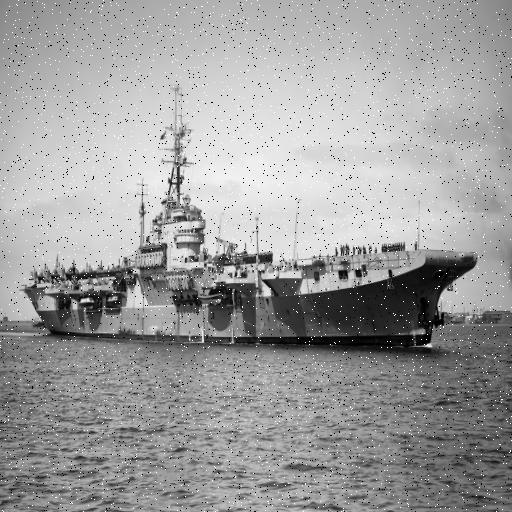Portanaves: (22, 82, 483, 349)
